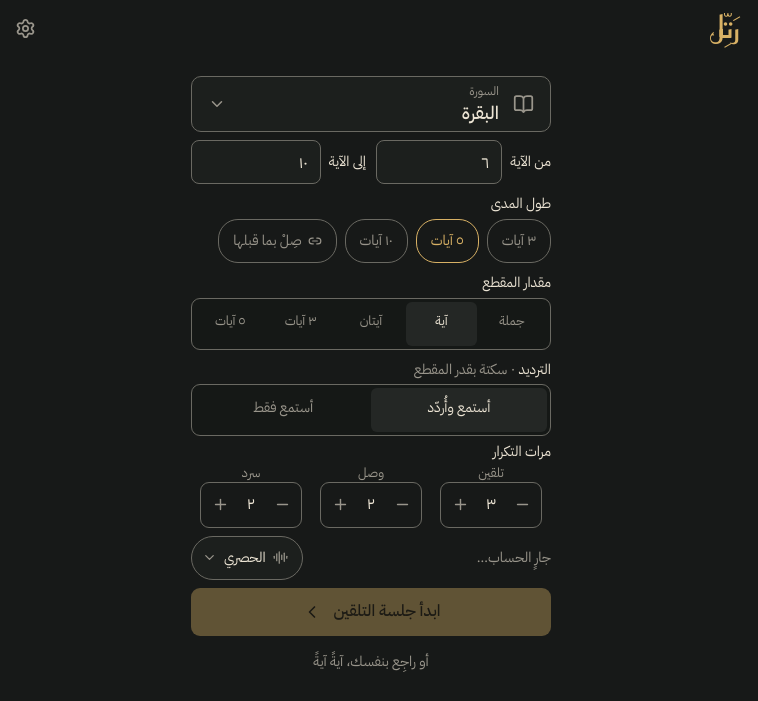
Test: choosing a passage › offers the ayah before the passage so it can be joined to what came before
This screenshot has width=758, height=701.
Click the button "صِلْ بما قبلها": point(277, 241) [218,219,337,263]
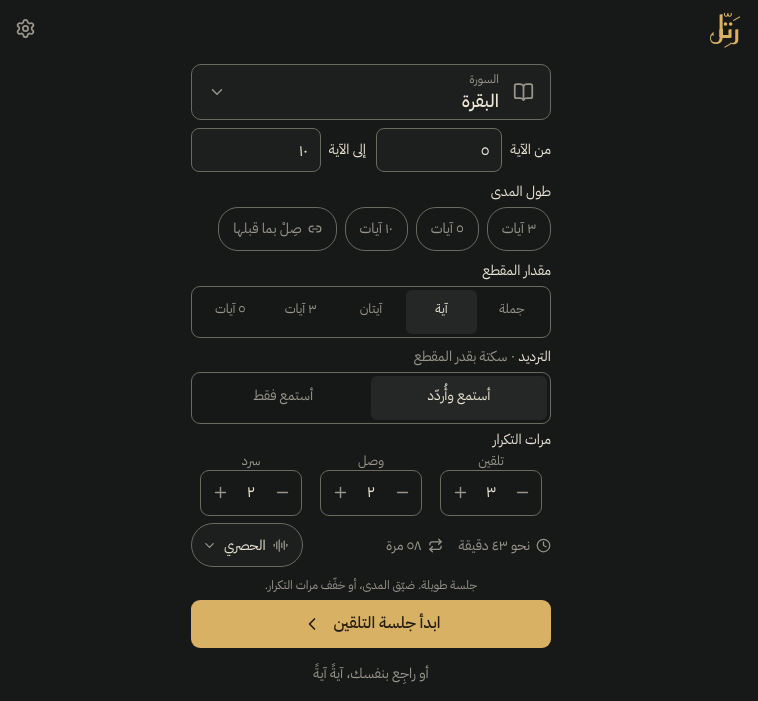
Expected: the dropdown labelled "من الآية" holds "٥", [377,129,501,173]
